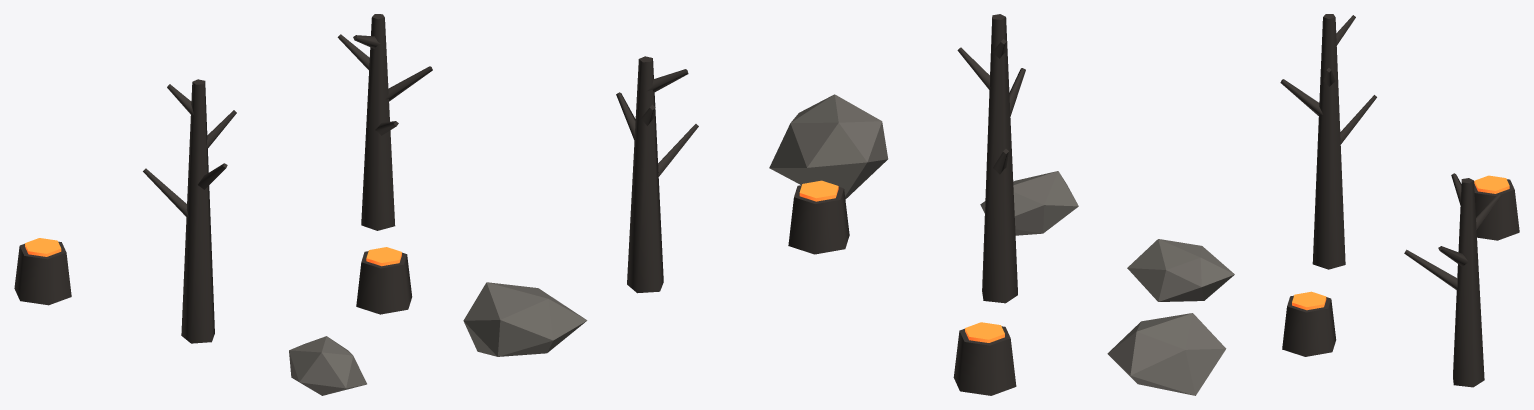
Rendered from sawyer_dead_snags_d.glb.
3 renders of one model, left to right at view 1: azimuth 30°, elevation 25°; view 2: azimuth 150°, elevation 25°; view 3: azimuth 270°, elevation 25°, orthographic. The views are drawn at different scales.
Visible parts, largest first — view 1: rock_4_rock, dead_1_trunk, dead_0_trunk, rock_5_rock, stump_3_stump, stump_2_stump, stump_3_ember, stump_2_ember; view 2: rock_4_rock, dead_1_trunk, dead_0_trunk, stump_3_stump, stump_2_stump, rock_5_rock, stump_2_ember, stump_3_ember, dead_0_branch0; view 3: rock_4_rock, dead_1_trunk, dead_0_trunk, rock_5_rock, stump_2_stump, stump_3_stump, stump_3_ember, dead_0_branch0, stump_2_ember, dead_1_branch1, dead_1_branch0.
Boxes of the visible parts, x1,y1,x2,y2 form: rock_4_rock: (463, 282, 587, 356); dead_1_trunk: (181, 79, 214, 343); dead_0_trunk: (361, 14, 395, 230); rock_5_rock: (289, 336, 366, 395); stump_3_stump: (14, 241, 71, 305); stump_2_stump: (356, 251, 412, 314); stump_3_ember: (25, 238, 61, 256); stump_2_ember: (366, 247, 401, 266); rock_4_rock: (769, 94, 888, 199); dead_1_trunk: (982, 14, 1017, 303); dead_0_trunk: (627, 56, 663, 293); stump_3_stump: (953, 326, 1016, 395); stump_2_stump: (788, 185, 849, 254); rock_5_rock: (980, 171, 1078, 235); stump_2_ember: (799, 180, 838, 201); stump_3_ember: (965, 322, 1004, 342); dead_0_branch0: (658, 124, 698, 177); rock_4_rock: (1107, 313, 1226, 395); dead_1_trunk: (1312, 14, 1345, 269); dead_0_trunk: (1453, 178, 1484, 387); rock_5_rock: (1127, 239, 1234, 301); stump_2_stump: (1282, 295, 1336, 356); stump_3_stump: (1474, 179, 1519, 240); stump_3_ember: (1474, 175, 1509, 193); dead_0_branch0: (1404, 249, 1457, 290); stump_2_ember: (1292, 291, 1326, 310); dead_1_branch1: (1280, 79, 1322, 115); dead_1_branch0: (1340, 95, 1376, 144).
Size of the model in its own units: 3.26 by 2.18 by 3.1.
